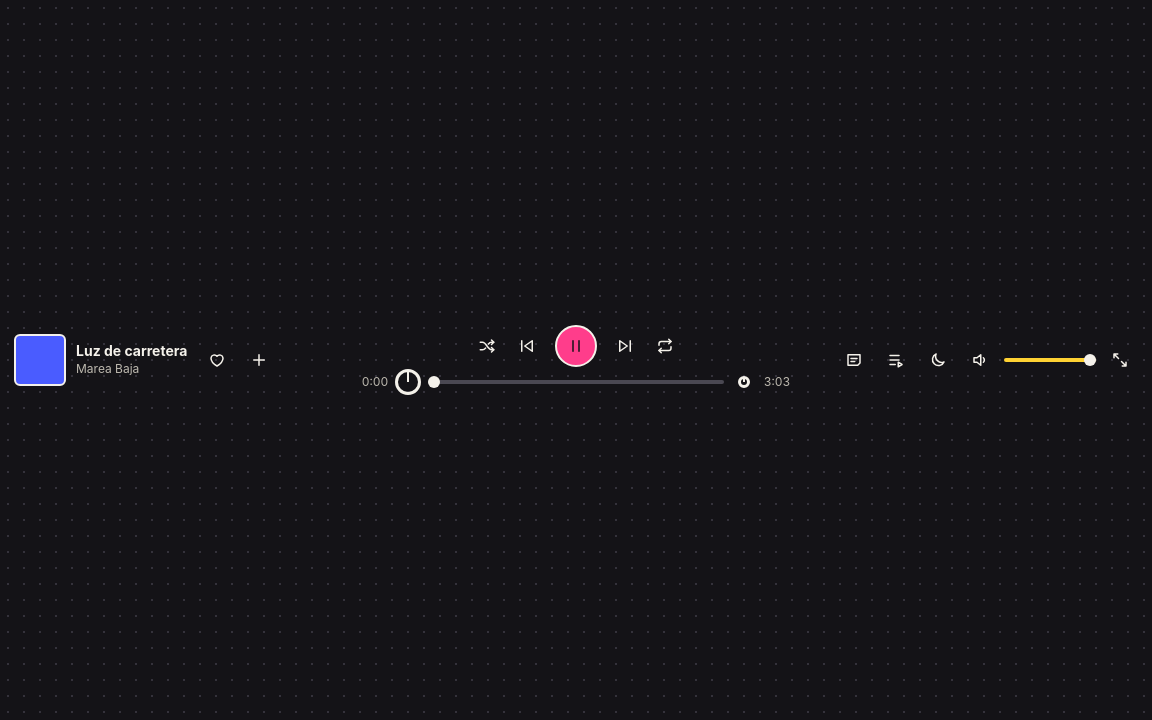
Scenario: la primera de la cola no se puede subir ni la última bajar
Click the button named "Cola": coordinates (896, 360) [878, 342, 914, 378]
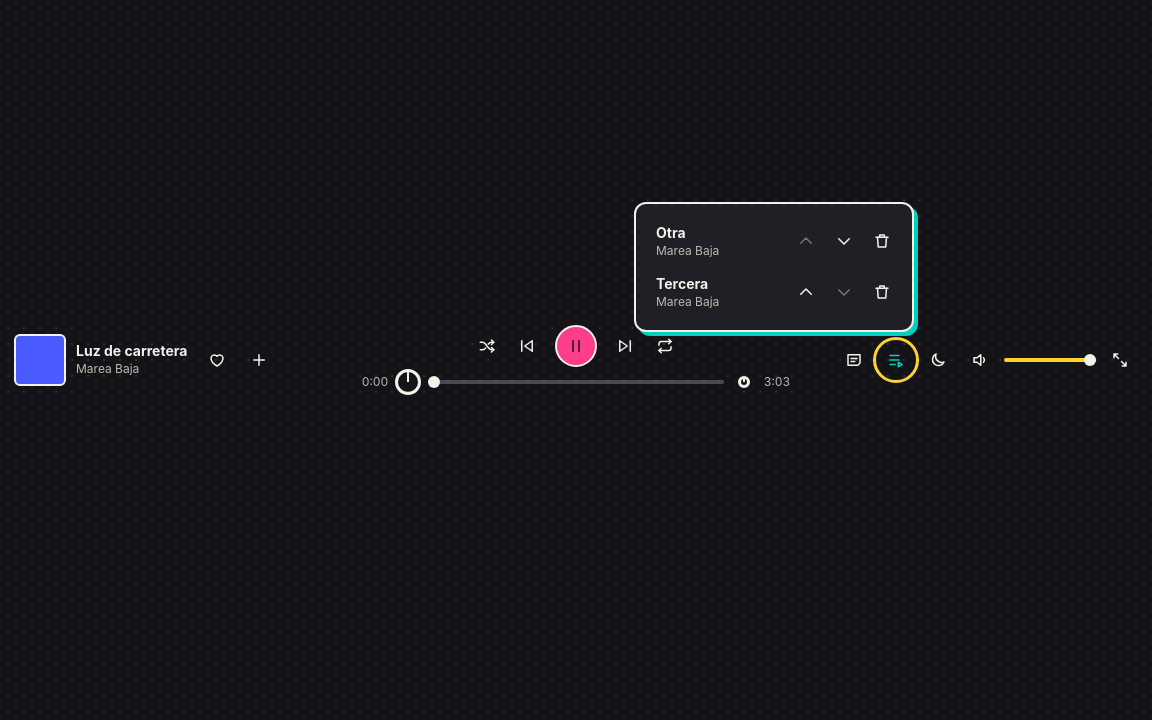
Expected: the button named "Subir Otra en la cola" is disabled, [788, 223, 824, 259]
Expected: the button named "Bajar Tercera en la cola" is disabled, [826, 274, 862, 310]
